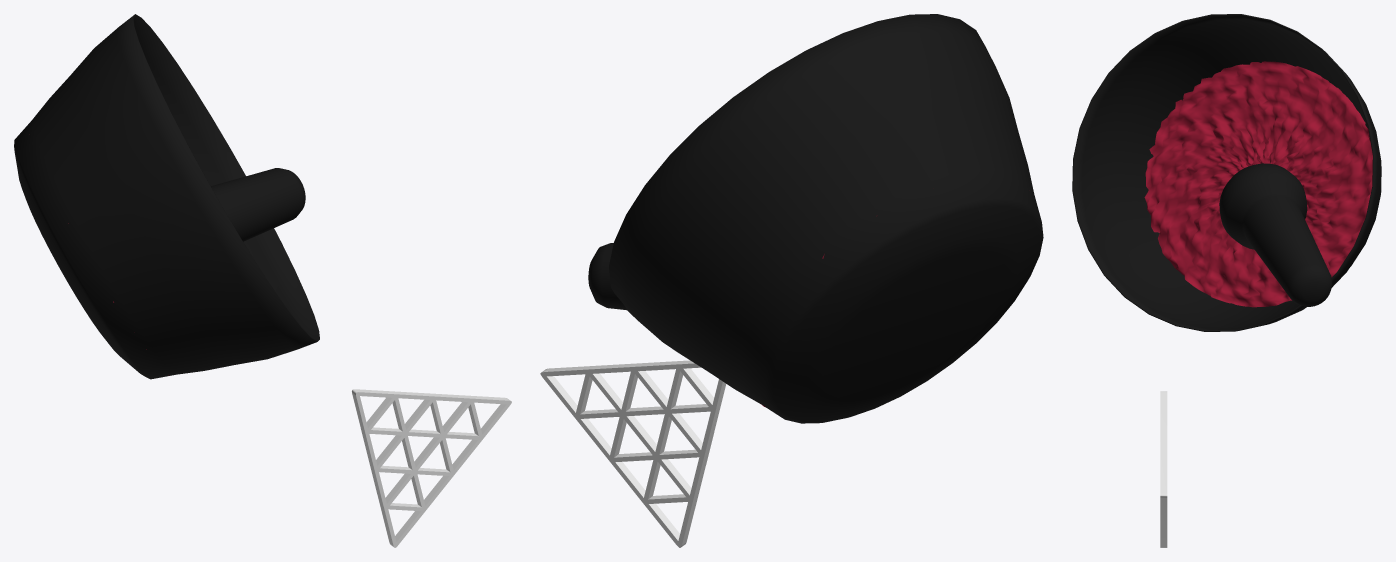
Rendered from Mortar.glb.
3 renders of one model, left to right at view 1: azimuth 30°, elevation 25°; view 2: azimuth 150°, elevation 25°; view 3: azimuth 270°, elevation 25°, orthographic. The views are drawn at different scales.
Parts seen in each view (by area): view 1: Mortar, threejs, Morter_Handle; view 2: Mortar, threejs, Morter_Handle; view 3: Mortar_Dust, Mortar, Morter_Handle, threejs.
Part boxes in pixels (box(x1,y1,x2,y2)): Mortar: box(14, 14, 319, 379); threejs: box(352, 389, 511, 547); Morter_Handle: box(211, 168, 305, 241); Mortar: box(609, 14, 1043, 423); threejs: box(540, 360, 726, 547); Morter_Handle: box(588, 243, 626, 310); Mortar_Dust: box(1144, 61, 1372, 307); Mortar: box(1072, 14, 1381, 331); Morter_Handle: box(1219, 163, 1332, 306); threejs: box(1160, 391, 1167, 547).
Bounding box in the file's own units: 0.5144 × 0.5924 × 0.3719.
